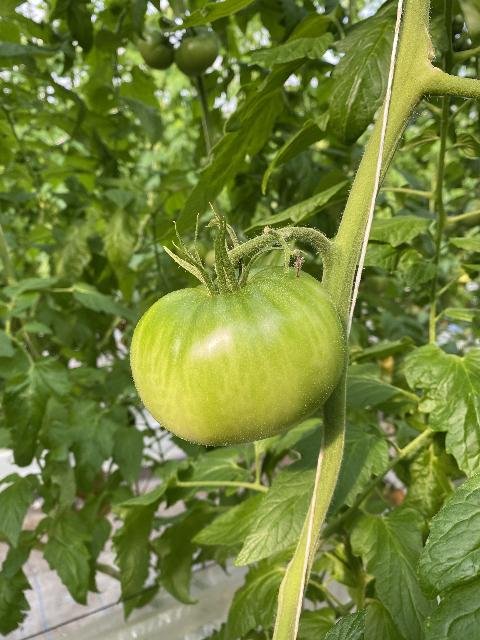b_green: (129, 266, 345, 447)
